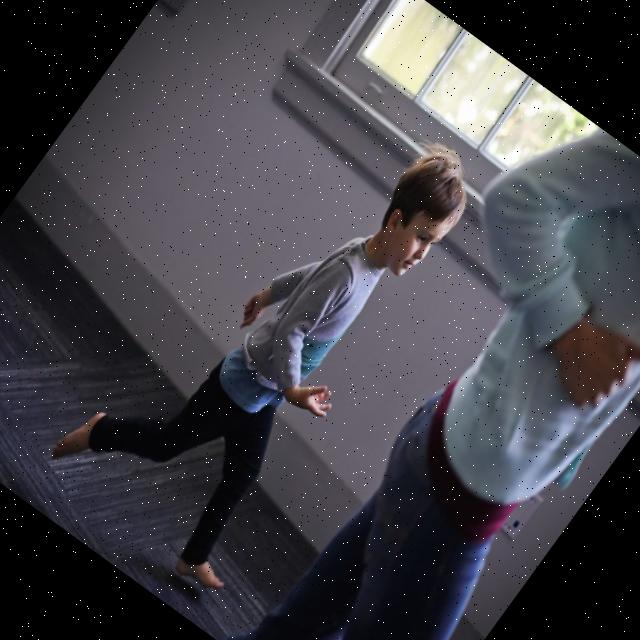Person: (179, 95, 640, 640), (40, 67, 508, 598)
